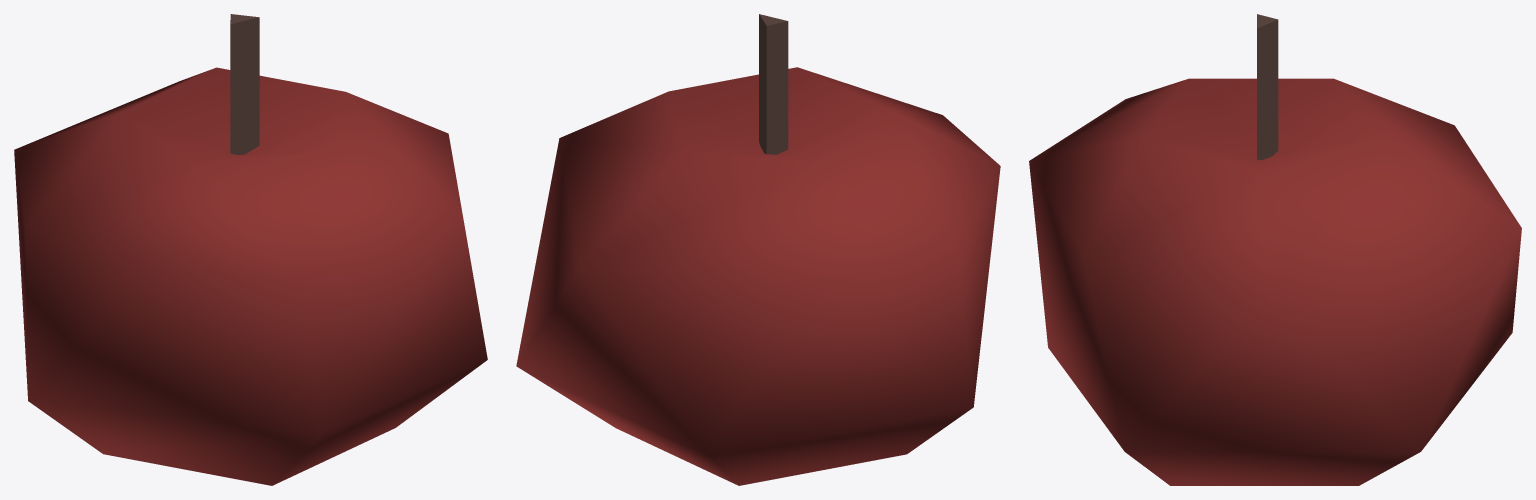
File: apple1.gltf
3 renders of one model, left to right at view 1: azimuth 30°, elevation 25°; view 2: azimuth 150°, elevation 25°; view 3: azimuth 270°, elevation 25°, orthographic. The views are drawn at different scales.
Visible parts, largest first — view 1: Apple; view 2: Apple; view 3: Apple.
Part boxes in pixels (x1,y1,x2,y2): Apple: [14, 14, 487, 485]; Apple: [516, 14, 1000, 485]; Apple: [1029, 14, 1521, 485].
Bounding box in the file's own units: 0.1427 × 0.1465 × 0.1427.
